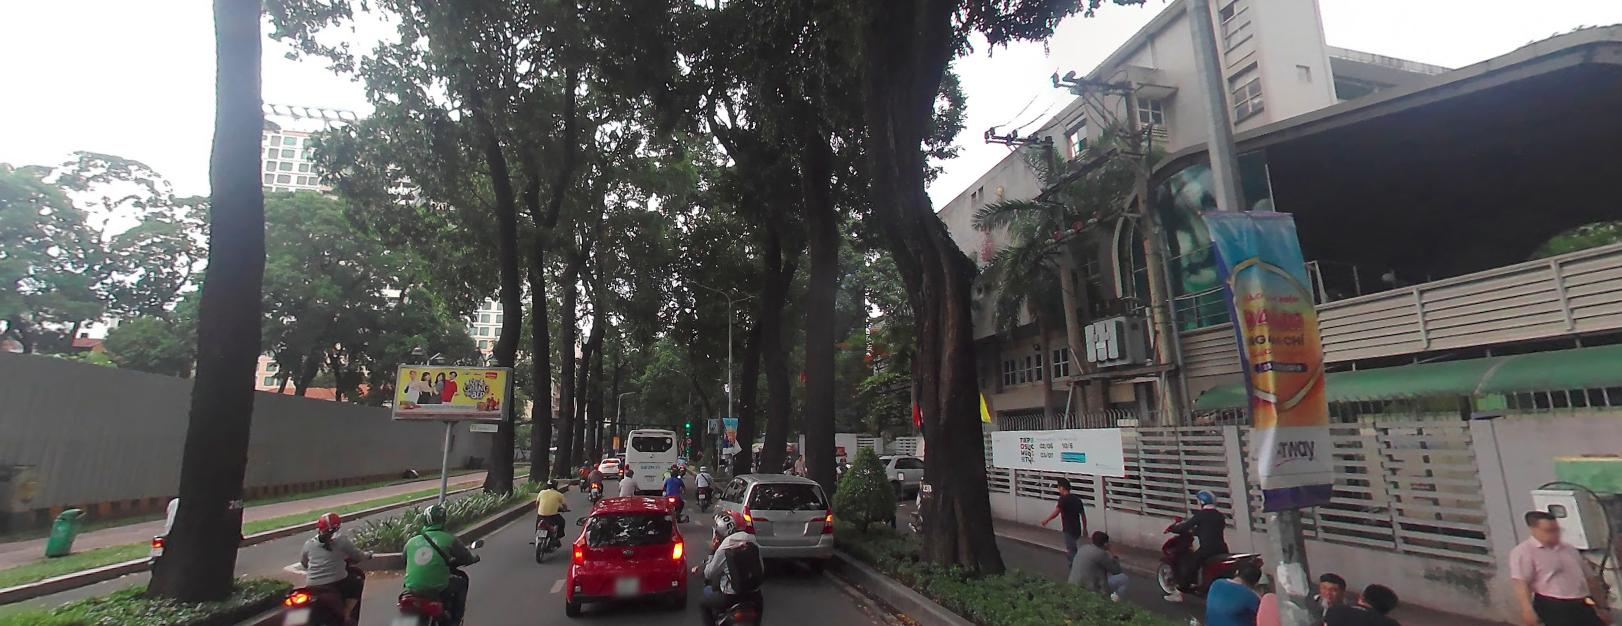Cam re: (685, 436, 690, 442)
